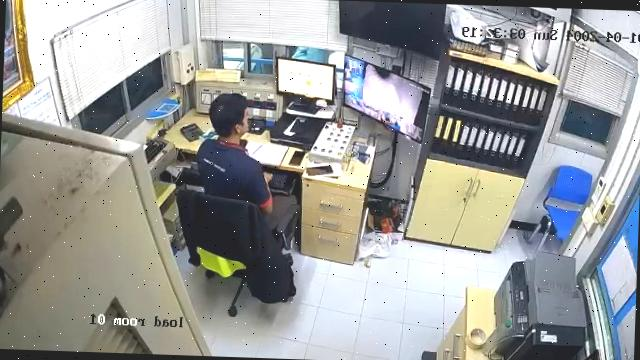Head: (209, 94, 248, 137)
People: (197, 95, 297, 232)
Phone: (288, 150, 305, 166), (306, 165, 332, 175)
